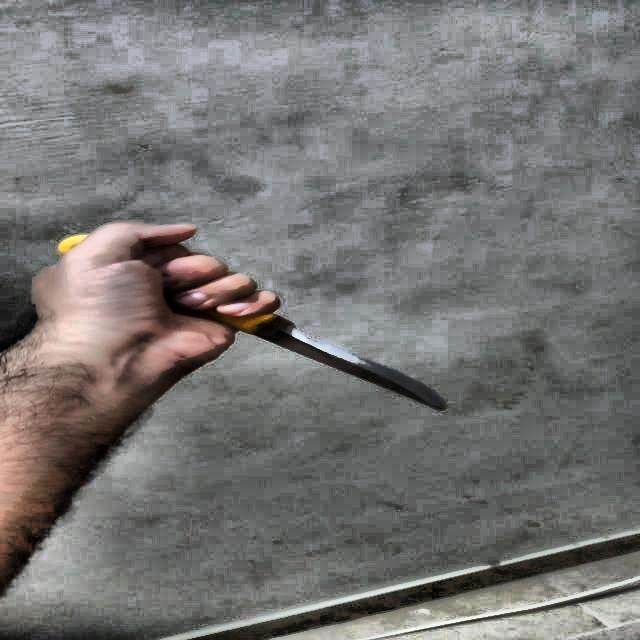knife: (63, 232, 445, 409)
